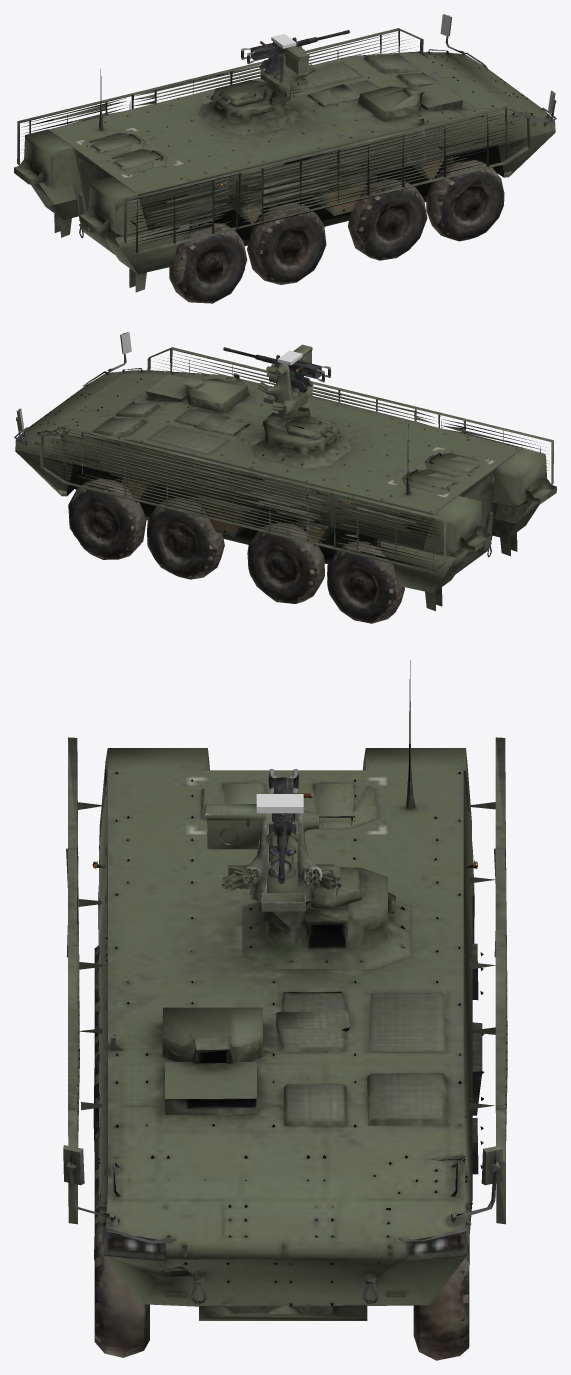
Rendered from patria.glb.
3 renders of one model, top to bottom at view 1: azimuth 30°, elevation 25°; view 2: azimuth 150°, elevation 25°; view 3: azimuth 270°, elevation 25°, orthographic. The views are drawn at different scales.
Parts seen in each view (by area): view 1: g_patria_hull, g_patria_turret; view 2: g_patria_hull, g_patria_turret; view 3: g_patria_hull, g_patria_turret.
Part boxes in pixels (x1,y1,x2,y2): g_patria_hull: [14, 14, 556, 303]; g_patria_turret: [241, 34, 315, 97]; g_patria_hull: [14, 332, 556, 623]; g_patria_turret: [257, 344, 331, 415]; g_patria_hull: [63, 660, 507, 1360]; g_patria_turret: [204, 769, 341, 911].
Size of the model in its own units: 7.7 by 3.3 by 3.19.
Materials: 4 (3 with a texture image).
